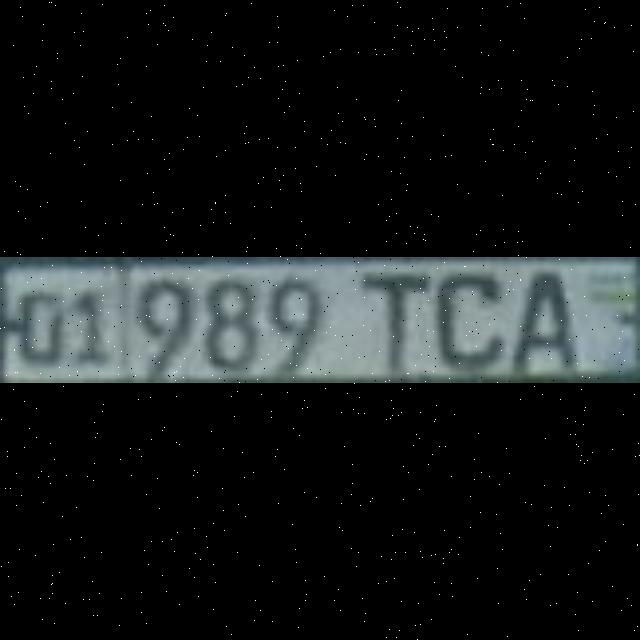0: (16, 284, 59, 360)
1: (63, 288, 103, 359)
8: (198, 276, 252, 364)
9: (130, 273, 186, 372), (264, 272, 316, 368)
A: (510, 268, 572, 364)
C: (430, 264, 498, 364)
T: (359, 268, 426, 368)
